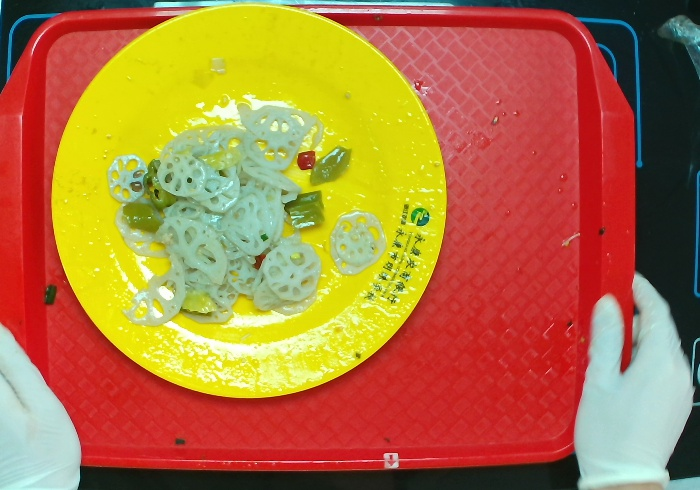YKMZ-Huang_Se_Mian_Pan: (46, 4, 447, 403)
